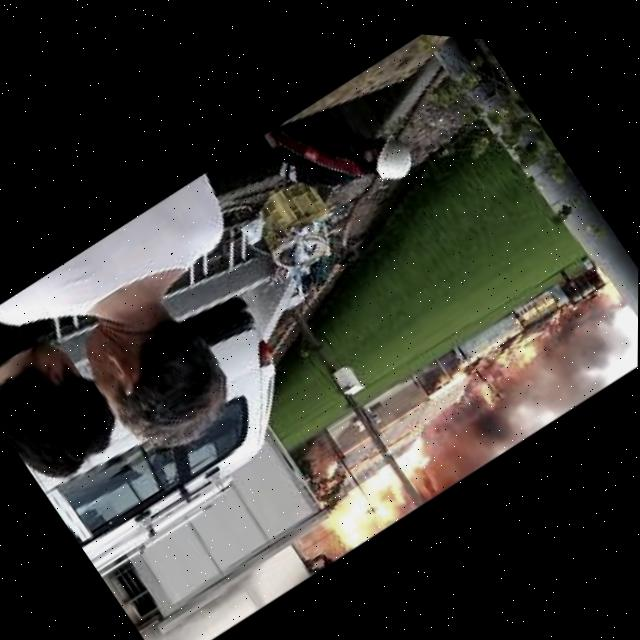Fire: (307, 418, 454, 557), (436, 309, 563, 428)
Smoke: (433, 279, 639, 476)
